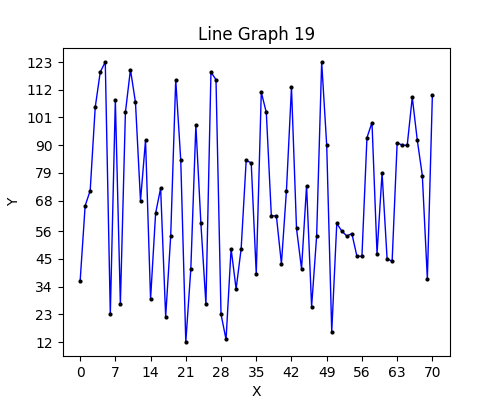cvs: (63, 48, 450, 356)
